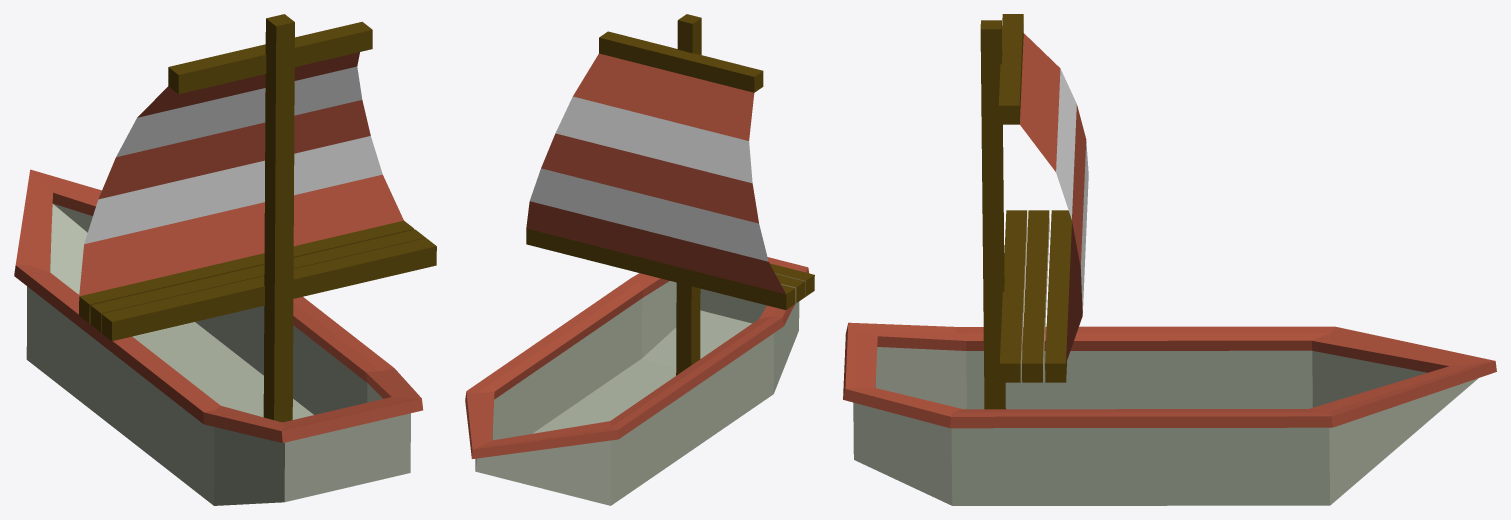
Rendered from boat2.glb.
3 views of the same model, side by side, from view 1: azimuth 30°, elevation 25°; view 2: azimuth 150°, elevation 25°; view 3: azimuth 270°, elevation 25° (orthographic). The views are drawn at different scales.
Visible parts, largest first — view 1: Cube.017_0; view 2: Cube.017_0; view 3: Cube.017_0.
Boxes of the visible parts, box(x1,y1,x2,y2) form: Cube.017_0: box(14, 14, 436, 505); Cube.017_0: box(465, 14, 814, 505); Cube.017_0: box(843, 14, 1496, 505).
Bounding box in the file's own units: 1.04 × 1.4 × 1.88.
